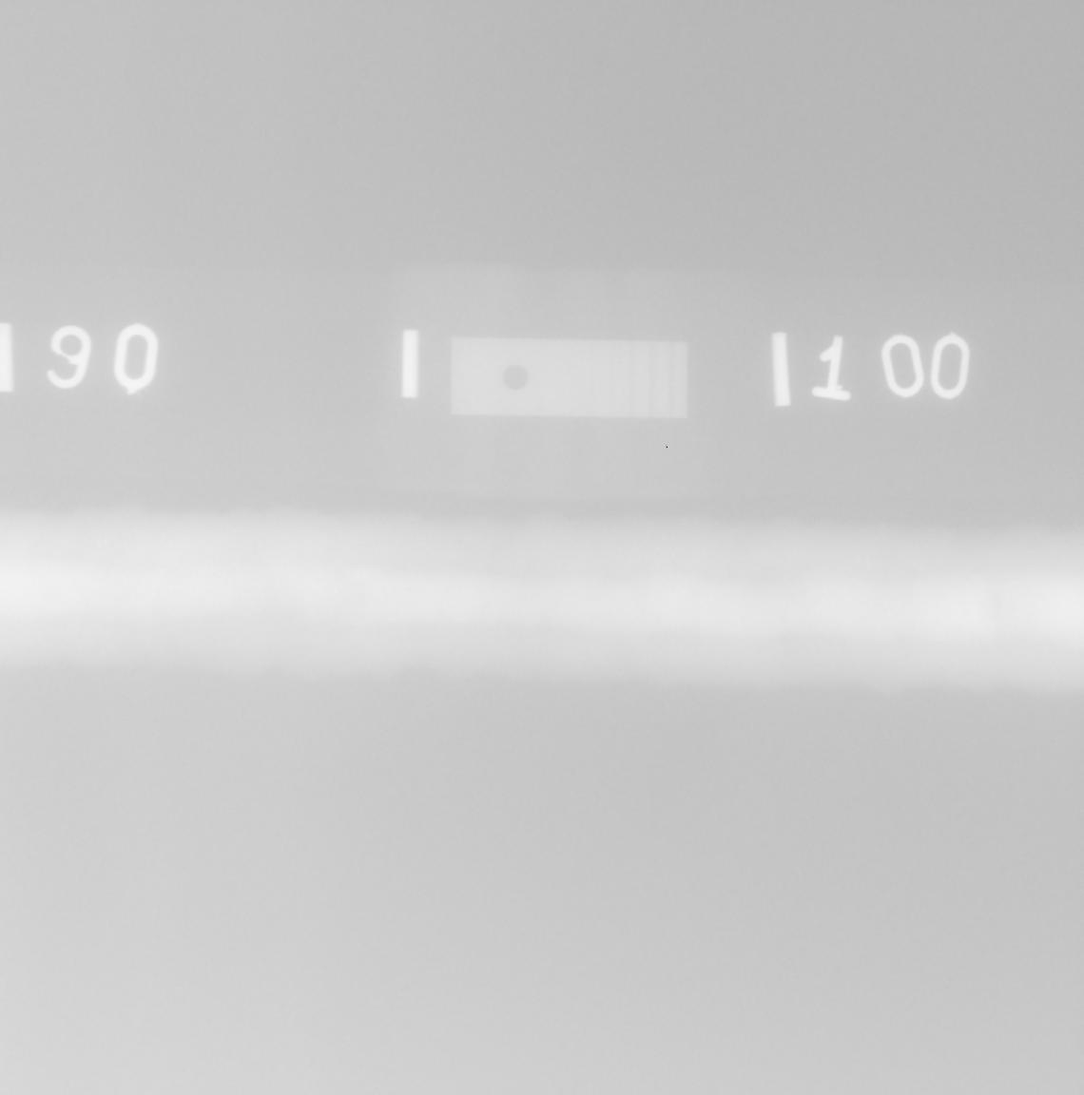Reference Standard 1: (451, 337, 688, 417)
